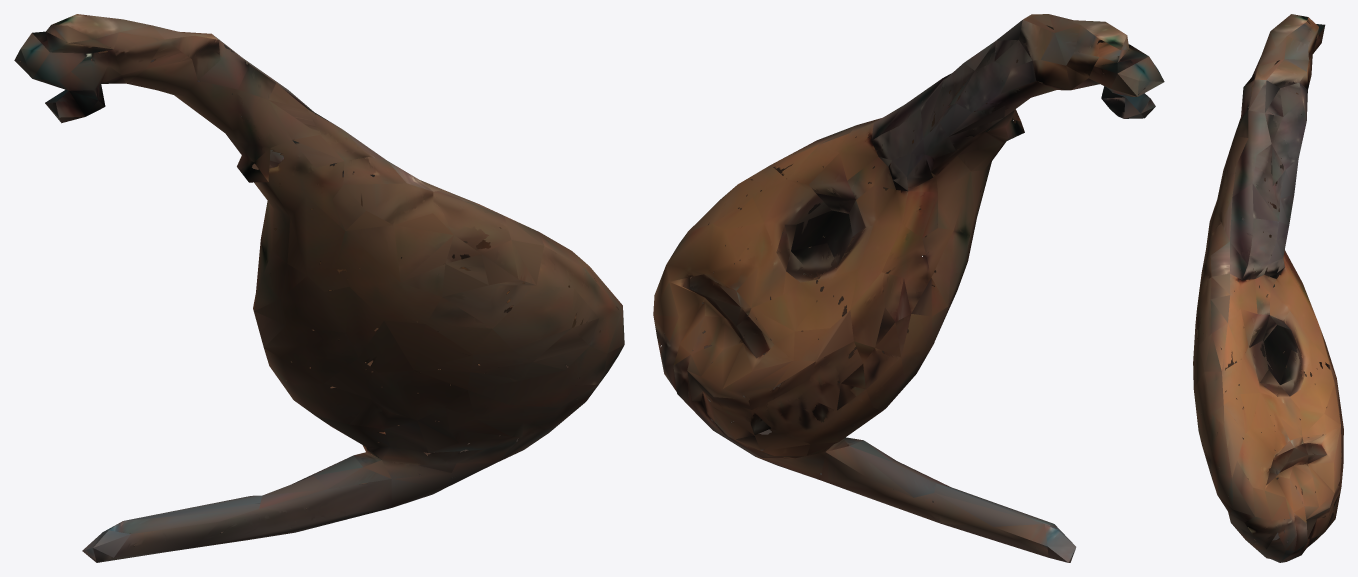
Rendered from 10_musician.fbx.
3 renders of one model, left to right at view 1: azimuth 30°, elevation 25°; view 2: azimuth 150°, elevation 25°; view 3: azimuth 270°, elevation 25°, orthographic. The views are drawn at different scales.
Parts seen in each view (by area): view 1: 10_musician; view 2: 10_musician; view 3: 10_musician.
Part boxes in pixels (x1,y1,x2,y2): 10_musician: (14,14,624,562); 10_musician: (653,14,1164,562); 10_musician: (1193,14,1343,562).
Size of the model in its own units: 70 by 66.67 by 21.92.
Materials: 1 (1 with a texture image).
